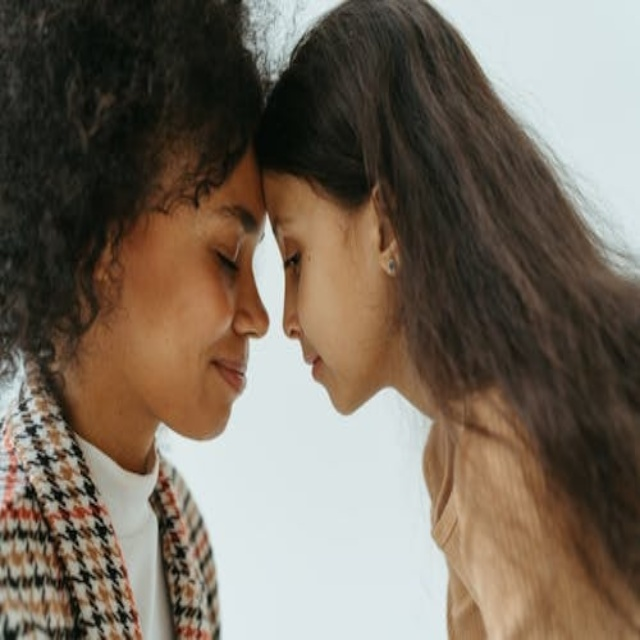Sin_gafas: (270, 204, 349, 288), (186, 196, 259, 284)
Sin_mascara: (182, 332, 251, 434), (298, 334, 366, 404)
